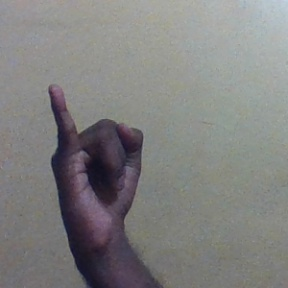I: (43, 80, 147, 238)
